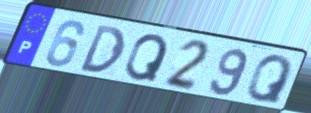2: (161, 38, 211, 93)
6: (44, 20, 86, 68)
9: (208, 47, 250, 97)
D: (78, 23, 128, 75)
Q: (245, 54, 295, 106), (123, 33, 171, 84)
